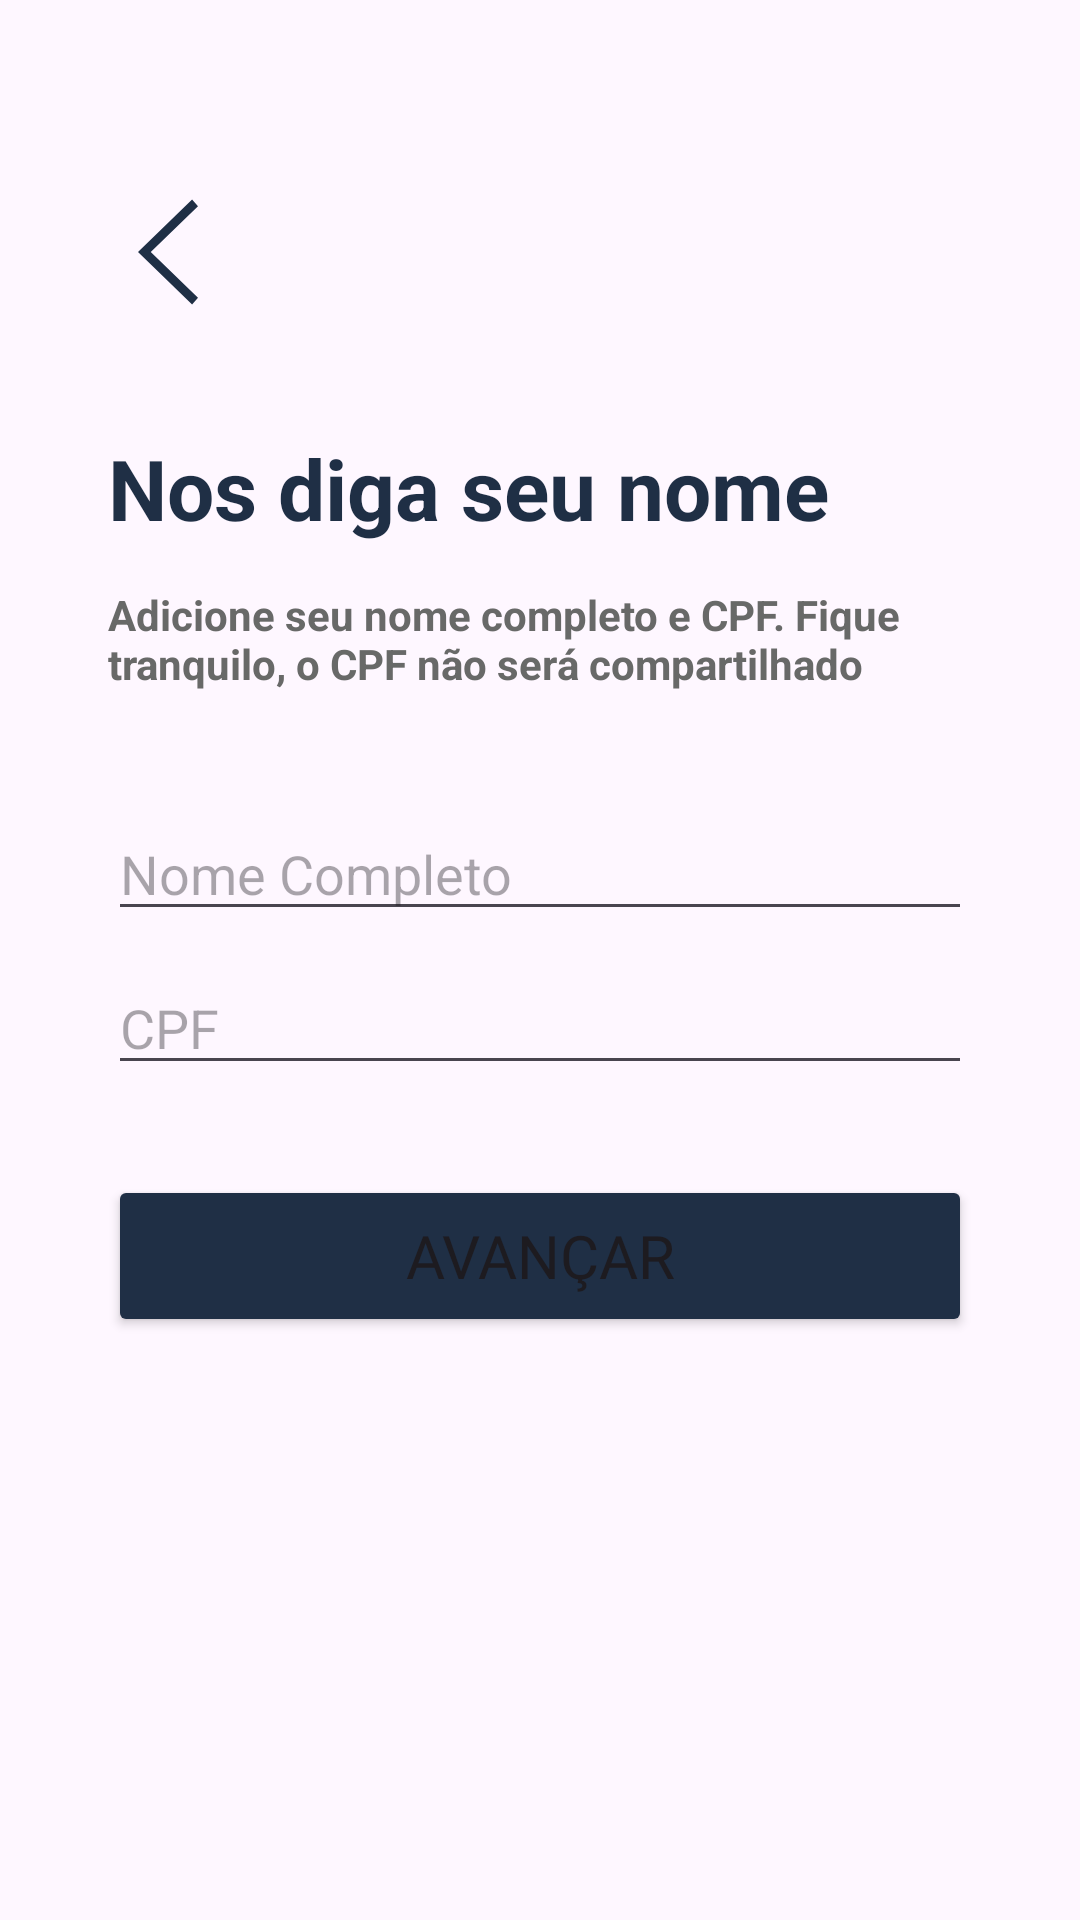

Icons on this 1080*1920 Android screen, each with the point to tap as (x,y):
icseta esquerda: (168,252)
